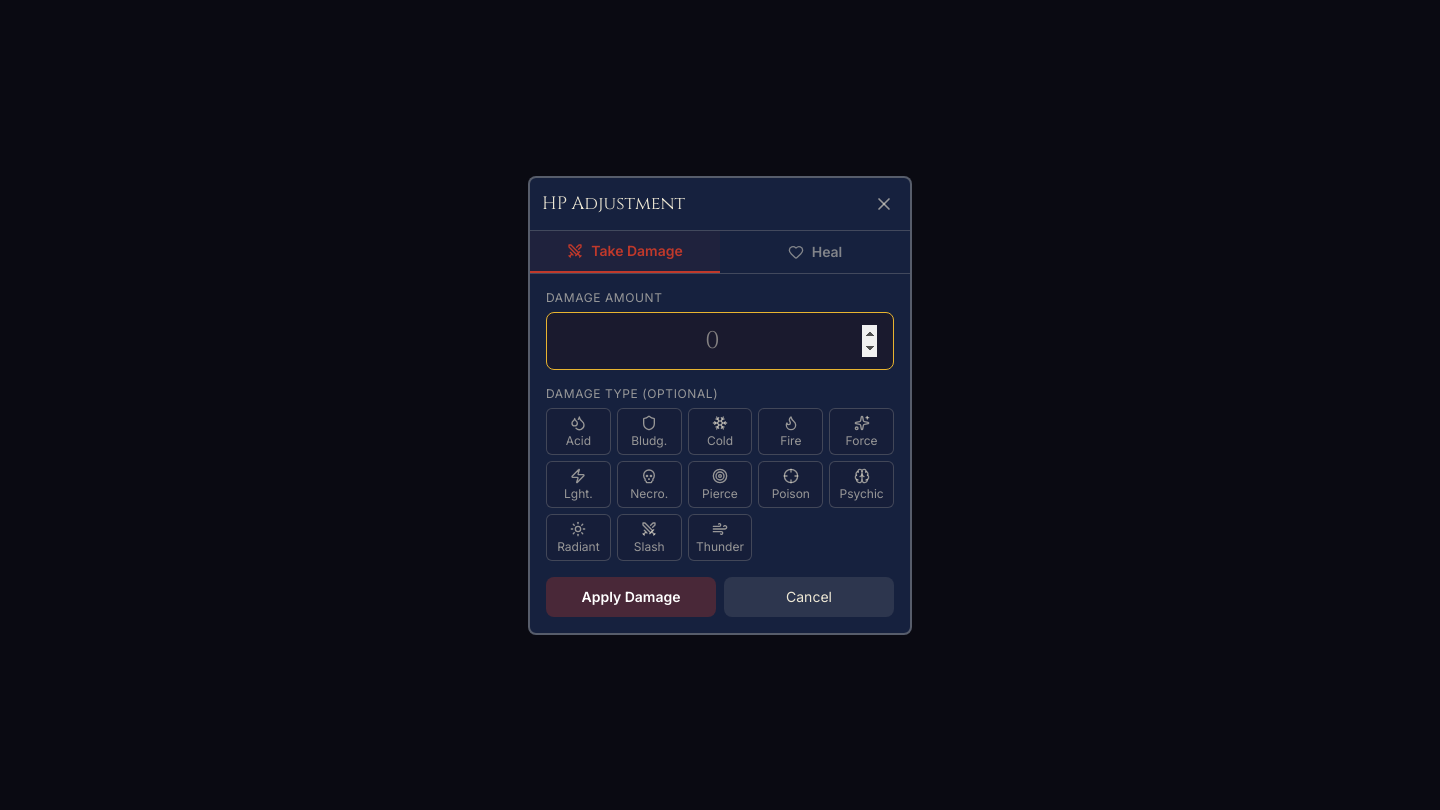
Scenario: DamageHealModal › shows damage preview when amount is entered
In the number field with test id "hp-amount-input": (720, 340) [546, 312, 894, 370], type "10"
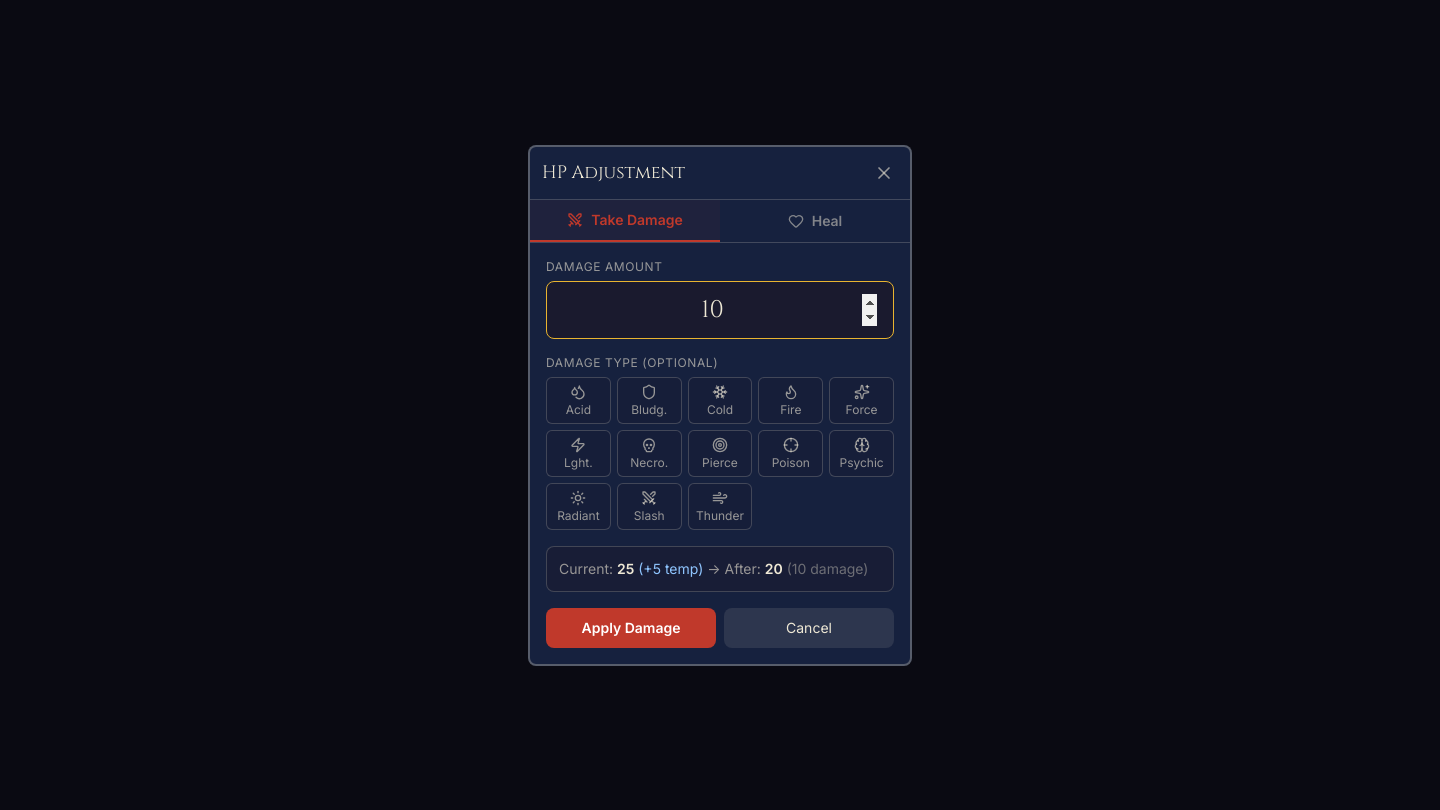
Check: the element with test id "damage-preview" is shown, box [546, 546, 894, 592]
